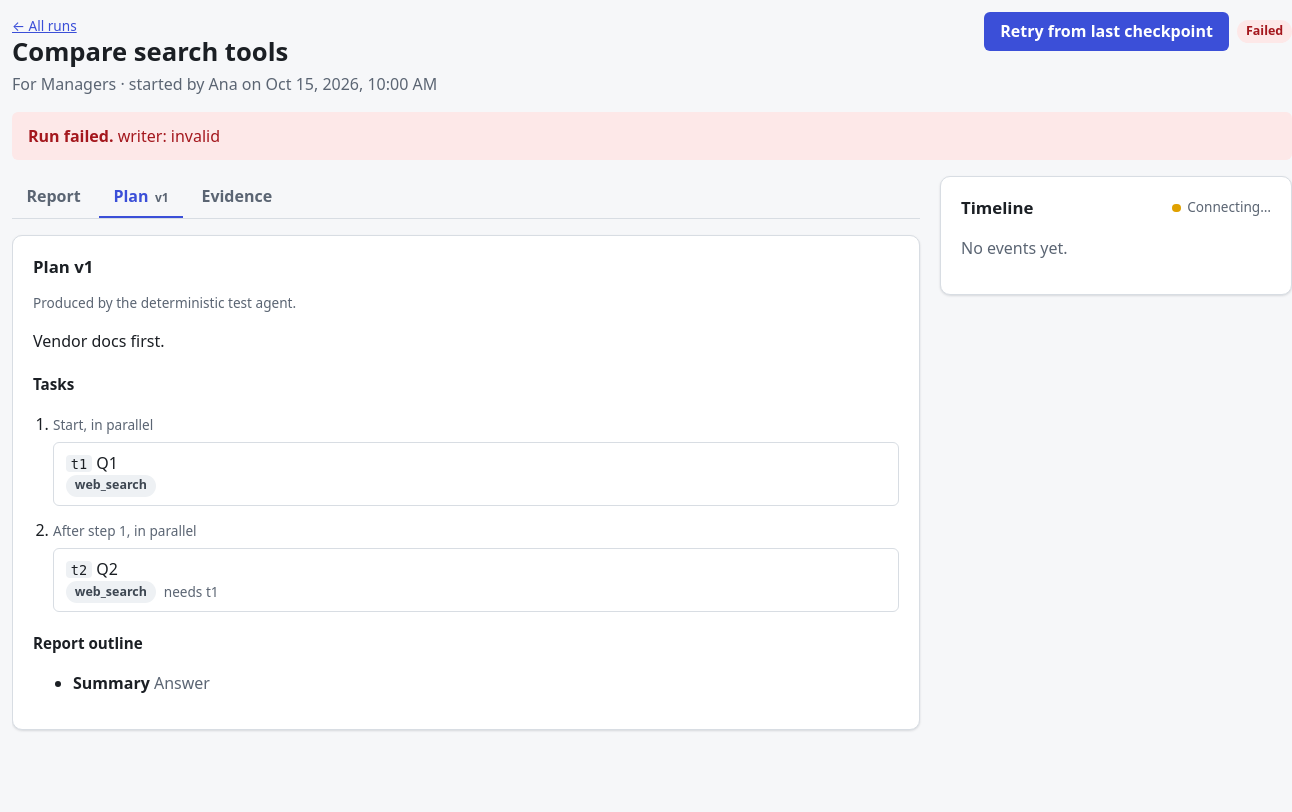
Test: RunPage › offers a retry for failed runs
Expected: the text "Run failed. writer: invalid" is shown, [12,112,1291,160]
Expected: the button "Cancel run" is not shown
Click the button "Retry from last checkpoint". click: coordinates (1107, 31)
box: [984,12,1229,51]
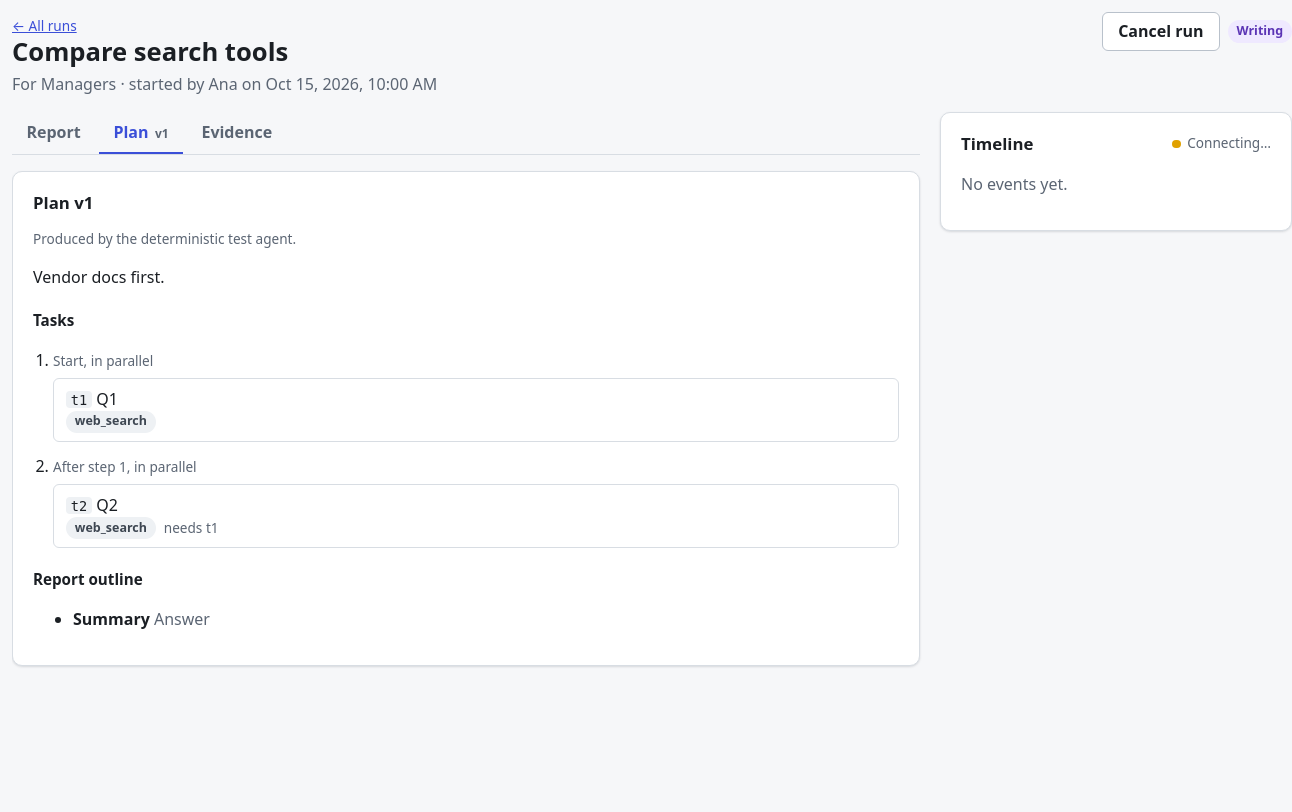
Now the text with test id "run-state" reads "Writing", box [1236,22,1283,39]
